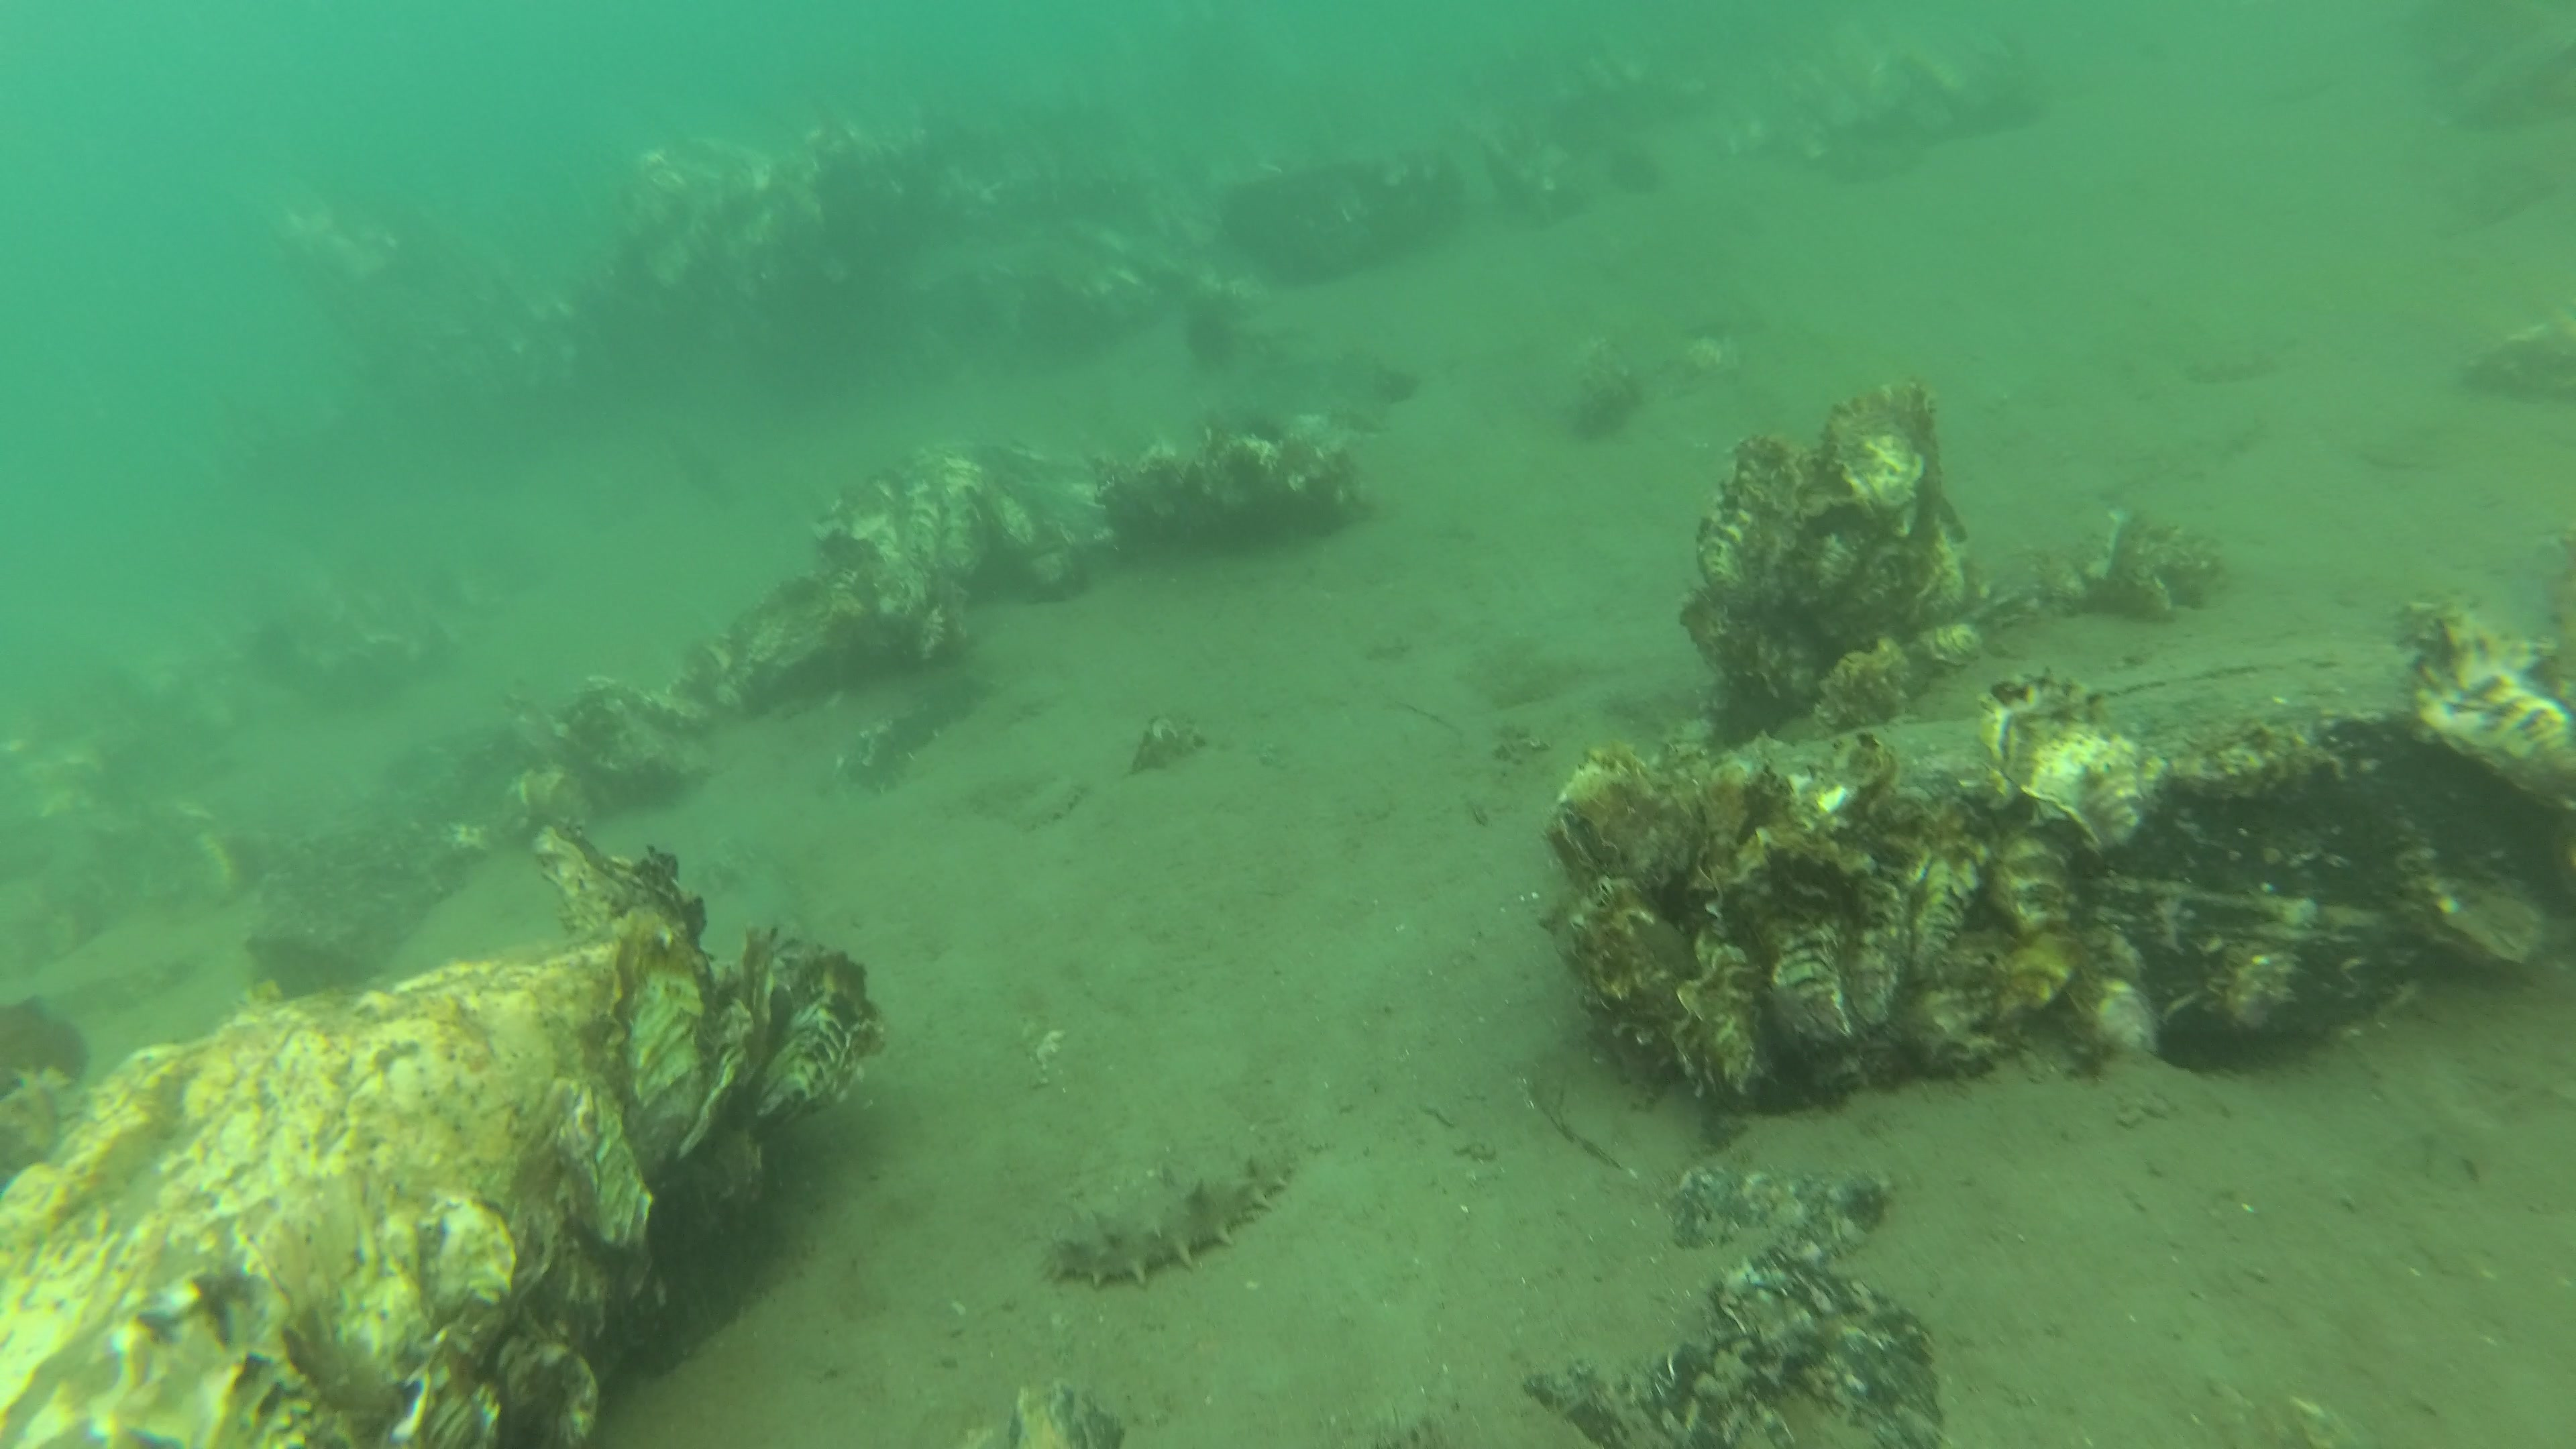echinus: (1182, 311, 1240, 368), (1608, 145, 1661, 195), (1244, 414, 1284, 446)
holothurian: (1049, 1141, 1302, 1290)
